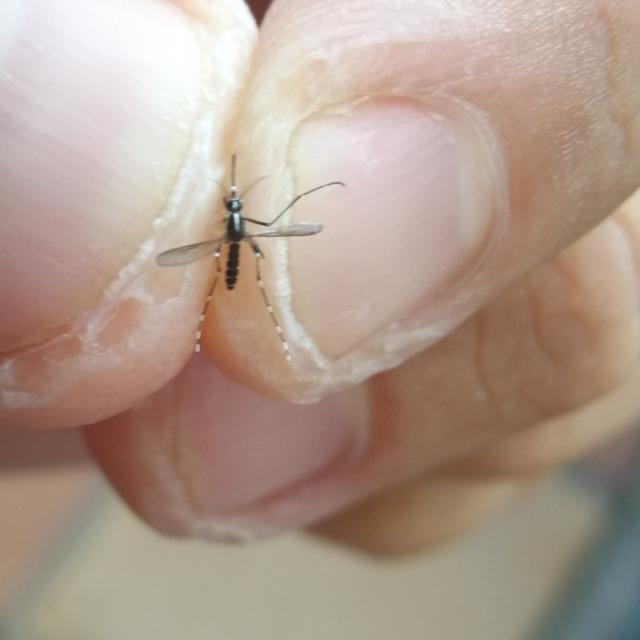albopictus: (147, 147, 344, 369)
